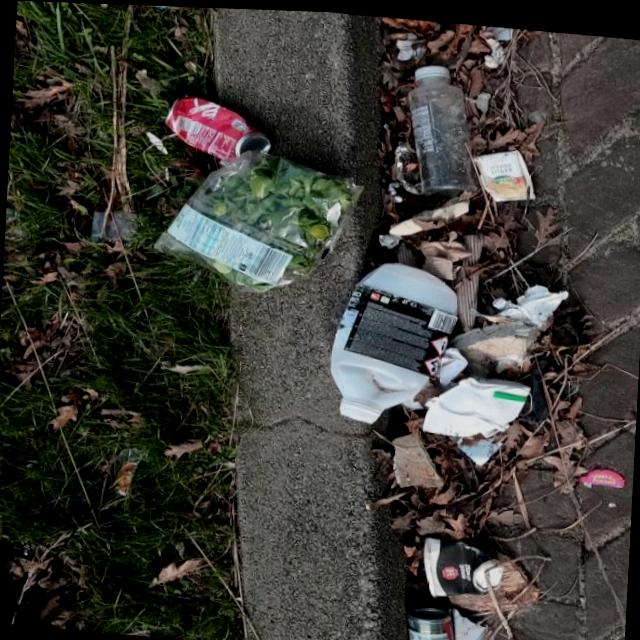Can-Metal: (161, 93, 273, 164), (400, 601, 461, 640)
Cup: (419, 533, 506, 600)
Mask: (419, 368, 534, 449)
